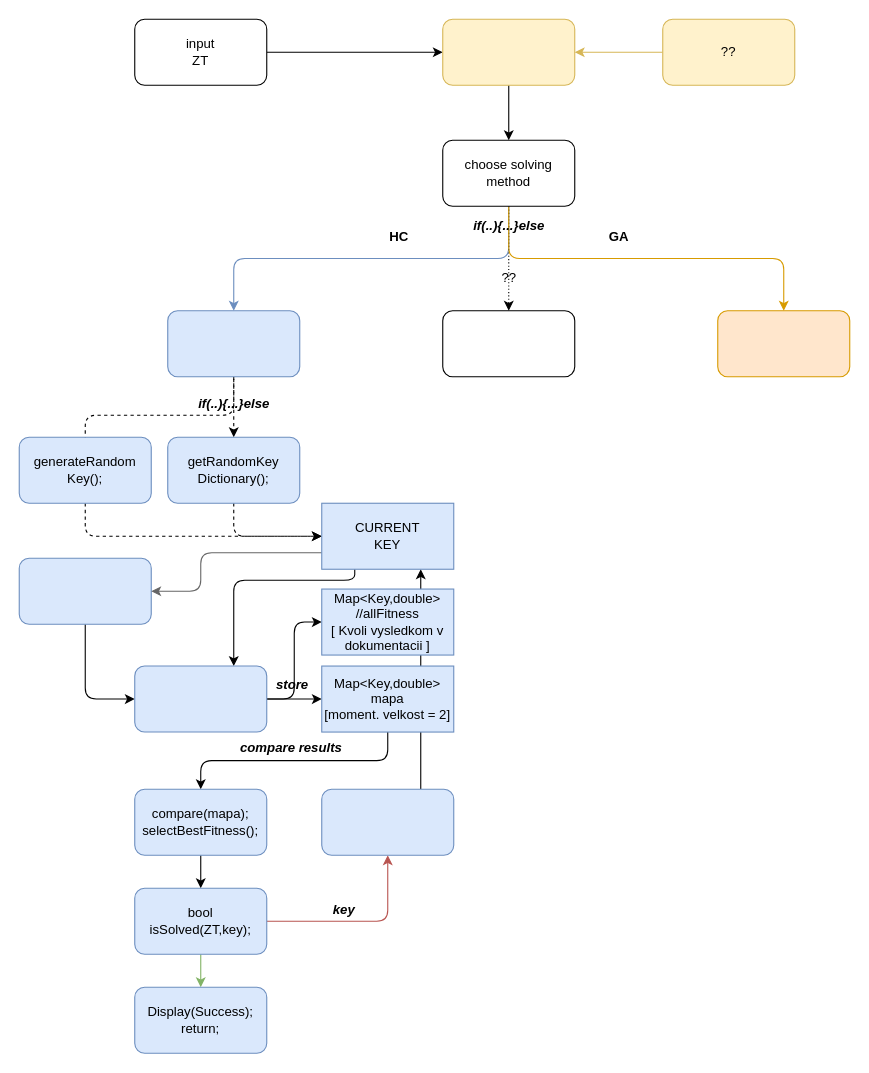
The diagram is 869 pixels wide and 1073 high, and some of its shapes have lost their labels. Each missing label, with the box of its shape:
calculateFitness(key);: (134, 665, 267, 732)
generateRandom Neighbour(Key k);: (18, 557, 151, 624)
guessKeyLength(); type : int: (442, 18, 575, 85)
HC.solve(String ZT);: (167, 310, 300, 377)
setCurrentKey(key);: (321, 788, 454, 855)
